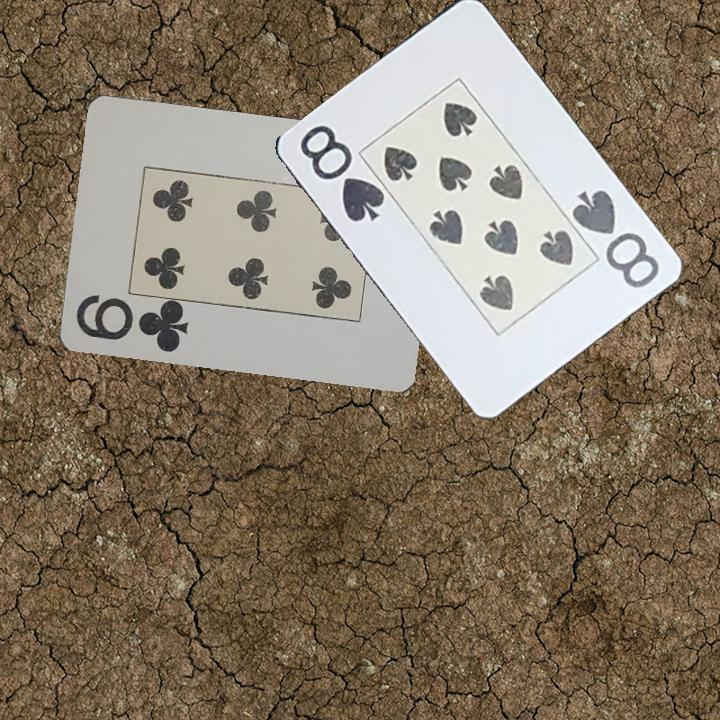6c: (73, 290, 192, 355)
8s: (567, 186, 662, 292), (295, 121, 387, 225)
